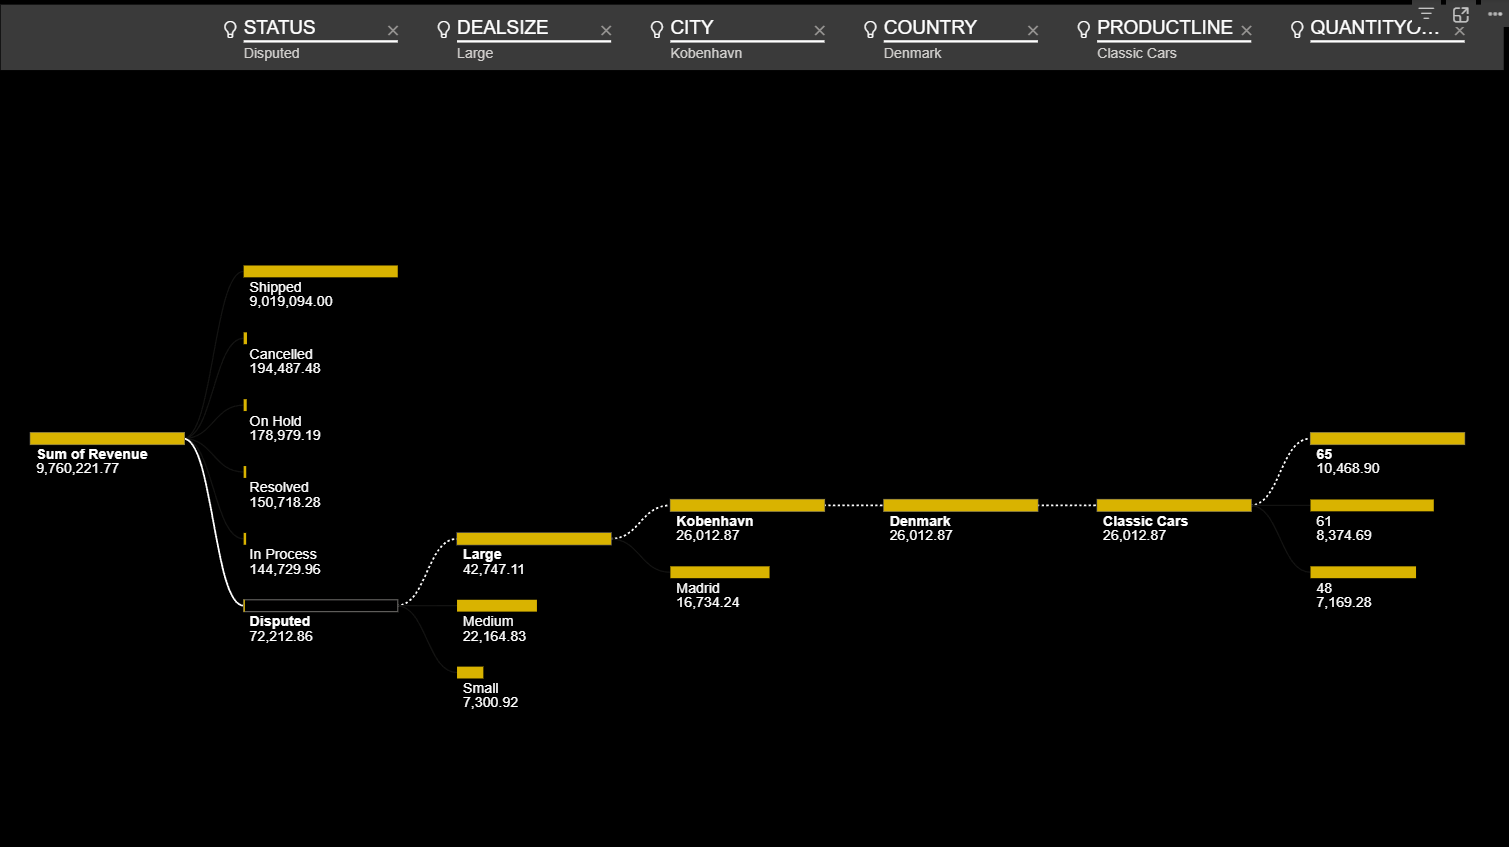

The page's visual inventory and layout, read from the dashboard file:
{"tool":"powerbi","page":{"name":"Heirarchy","canvas":[1280,720],"ordinal":2},"visuals":[{"type":"decompositionTreeVisual","fields":{"Analyze":["Sum(Auto Sales data (2).Revenue)"],"ExplainBy":["Auto Sales data (2).STATUS","Auto Sales data (2).DEALSIZE","Auto Sales data (2).PRODUCTLINE","Auto Sales data (2).COUNTRY","Auto Sales data (2).CITY","Auto Sales data (2).QUANTITYORDERED"]},"box":[0,0,1280,720.3],"z":0}]}

Visuals, with their boxes on the page's 1280x720 design canvas (x1, y1, x2, y2). These are canvas units, not pixel positions in the 1509x847 screenshot, which may show the page scaled, cropped or inside an application window:
decompositionTreeVisual - Sum(Auto Sales data (2).Revenue) x Auto Sales data (2).STATUS: 0:0:1280:720
